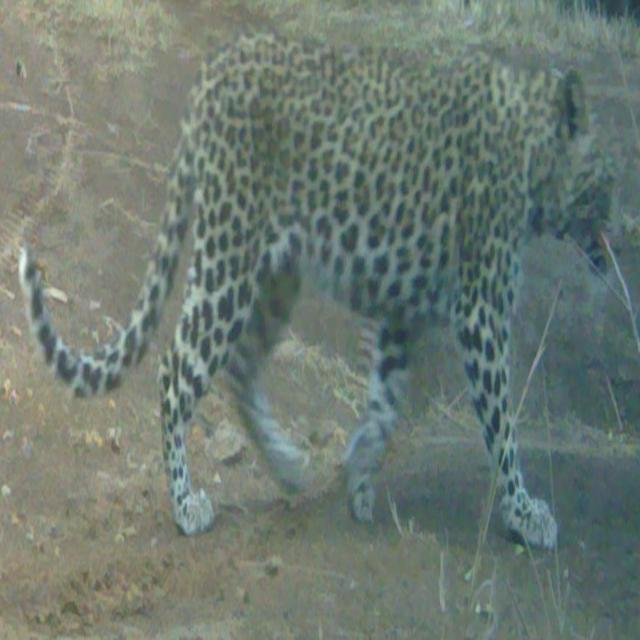Leopard: (17, 64, 594, 560)
